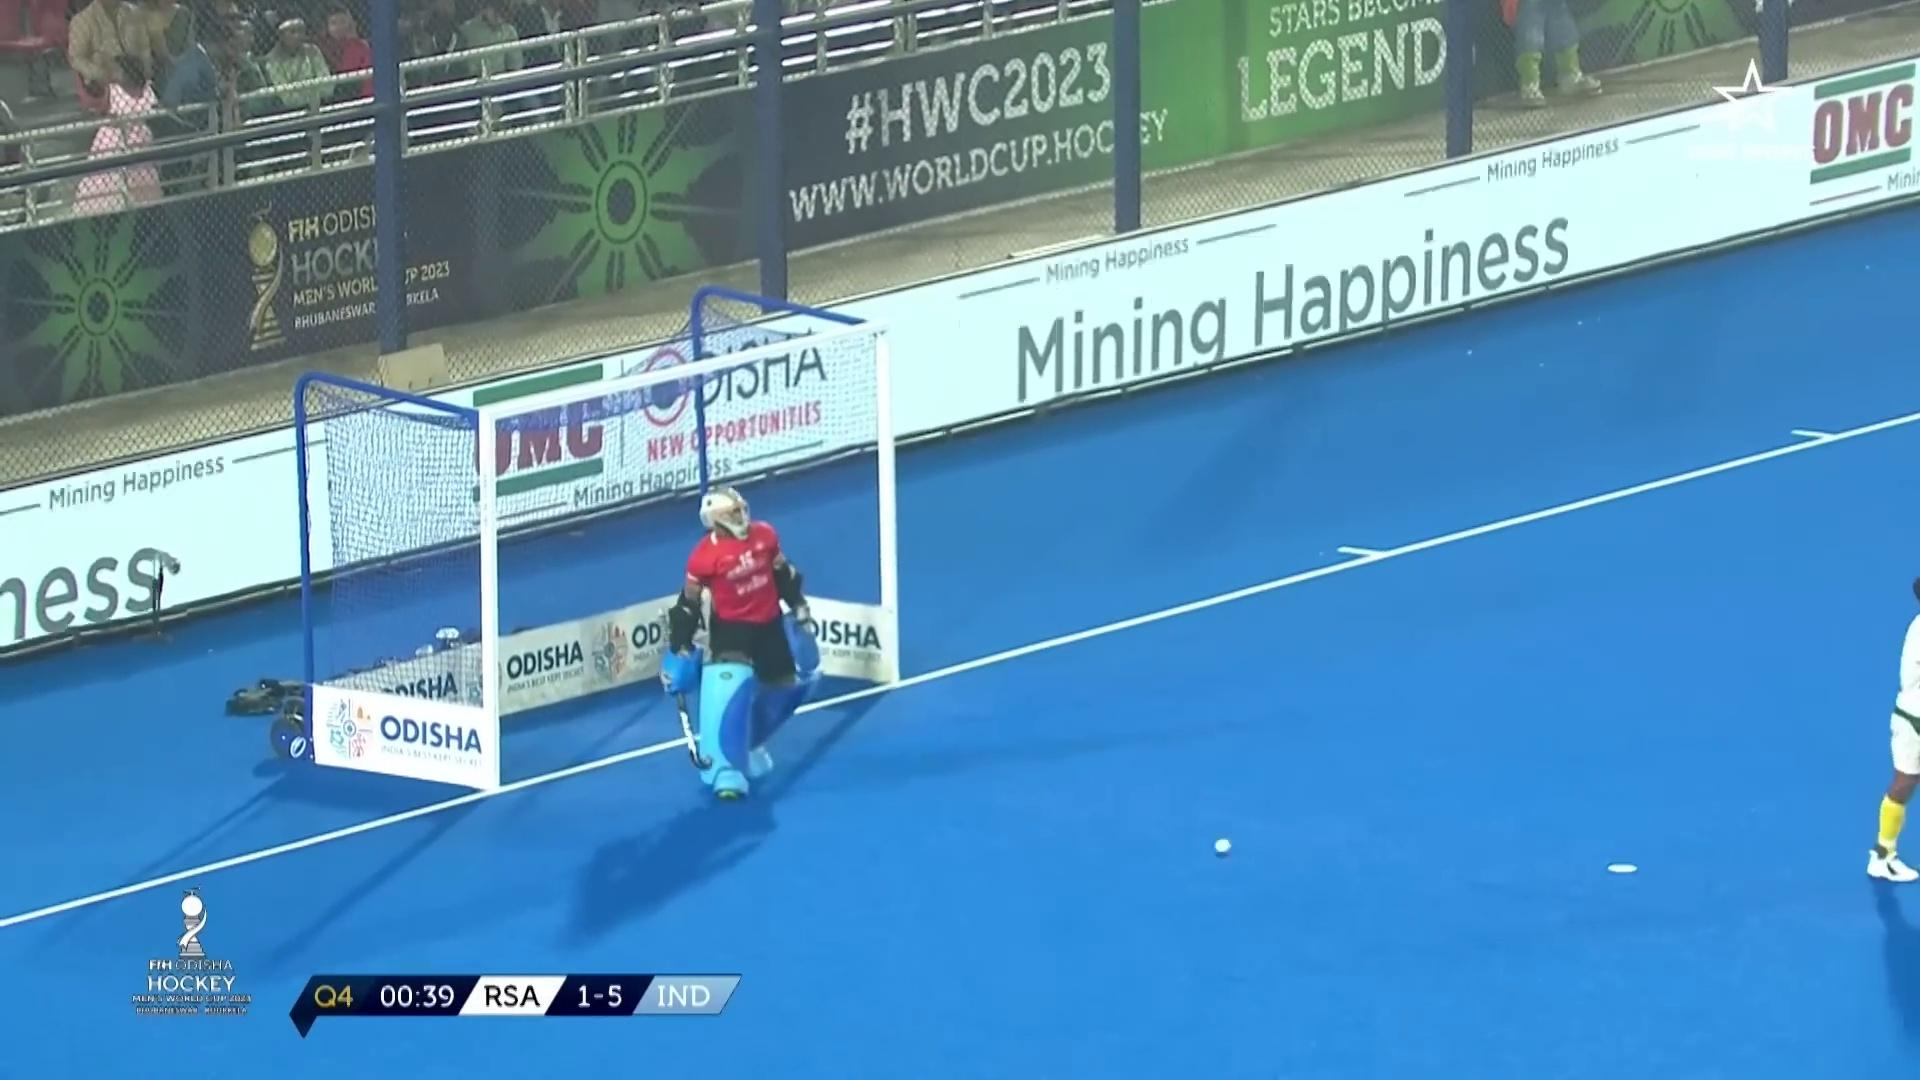ball: (1197, 814, 1257, 873)
